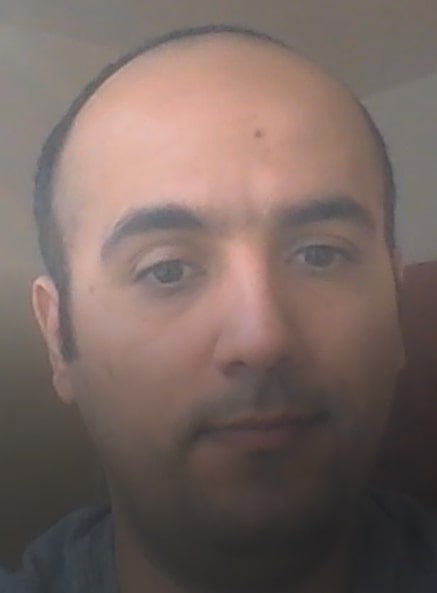Not Sleeping: (102, 202, 388, 315)
